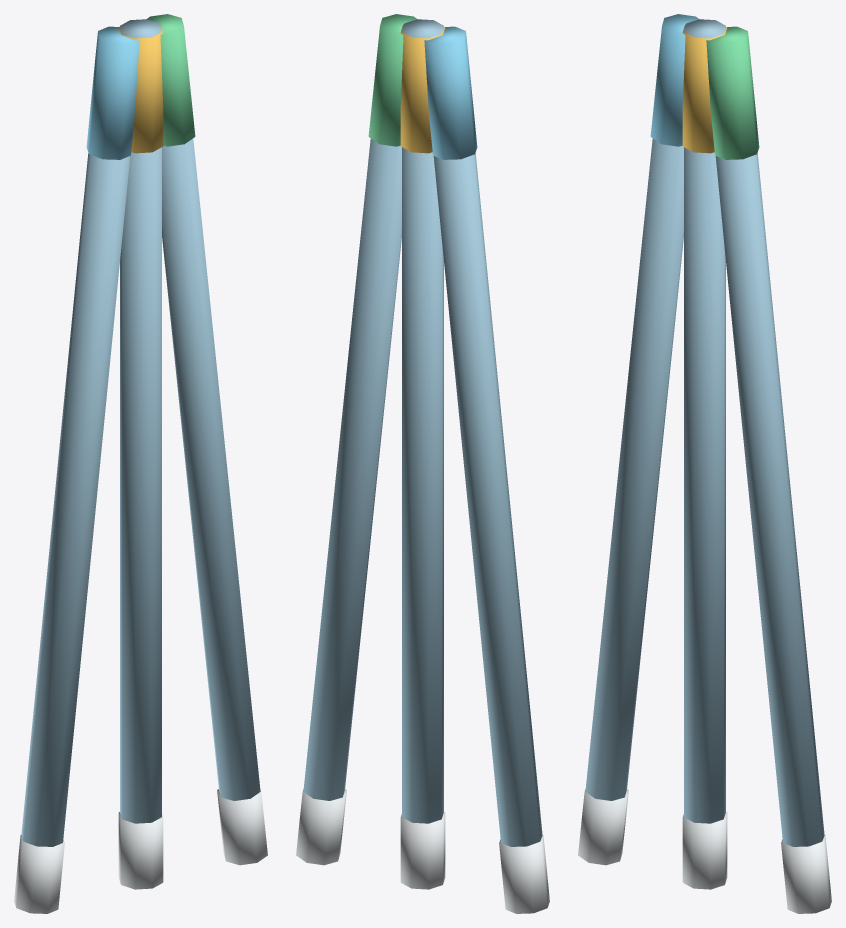
File: straw.glb
The picture shows the model from 3 angles, left to right: view 1: azimuth 30°, elevation 25°; view 2: azimuth 150°, elevation 25°; view 3: azimuth 330°, elevation 25°; orthographic projection.
Visible parts, largest first — view 1: straw; view 2: straw; view 3: straw.
Boxes of the visible parts, <box> form: straw: <box>14,14,267,913</box>; straw: <box>296,14,549,913</box>; straw: <box>578,14,831,913</box>.
Bounding box in the file's own units: 0.0799 × 0.2617 × 0.0128.
